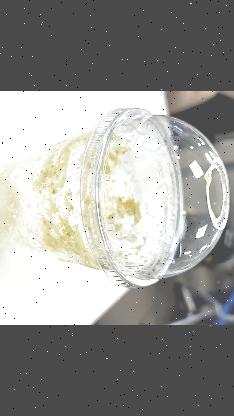Others: (0, 106, 234, 289), (80, 106, 232, 288)
